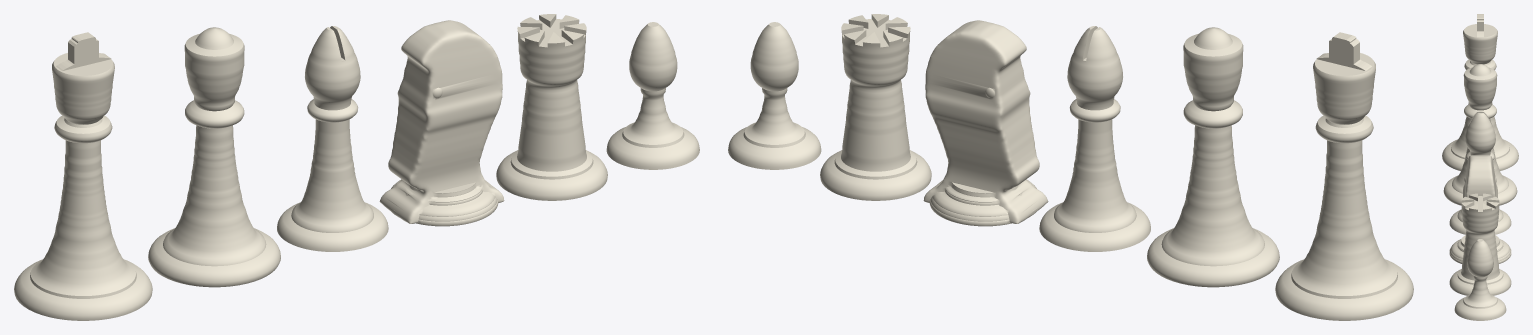
Rendered from chess-pieces.glb.
3 views of the same model, side by side, from view 1: azimuth 30°, elevation 25°; view 2: azimuth 150°, elevation 25°; view 3: azimuth 270°, elevation 25° (orthographic). The views are drawn at different scales.
Parts seen in each view (by area): view 1: Knight, King, Queen, Rook, Bishop, Pawn; view 2: Knight, King, Queen, Rook, Bishop, Pawn; view 3: Rook, King, Queen, Pawn, Knight, Bishop.
Part boxes in pixels (left/top/right/bottom): Knight: left=379, top=20, right=504, bottom=226; King: left=14, top=32, right=152, bottom=320; Queen: left=148, top=27, right=280, bottom=287; Rook: left=496, top=14, right=607, bottom=200; Bishop: left=277, top=26, right=388, bottom=251; Pawn: left=606, top=22, right=699, bottom=169; Knight: left=923, top=20, right=1048, bottom=226; King: left=1275, top=32, right=1413, bottom=320; Queen: left=1147, top=27, right=1279, bottom=287; Rook: left=820, top=14, right=931, bottom=200; Bishop: left=1039, top=26, right=1150, bottom=251; Pawn: left=728, top=22, right=821, bottom=169; Rook: left=1449, top=193, right=1511, bottom=295; King: left=1442, top=14, right=1518, bottom=170; Queen: left=1443, top=64, right=1517, bottom=205; Pawn: left=1454, top=239, right=1506, bottom=320; Knight: left=1449, top=155, right=1511, bottom=263; Bishop: left=1449, top=111, right=1511, bottom=234.
Bounding box in the file's own units: 0.2486 × 0.0907 × 0.0445.
